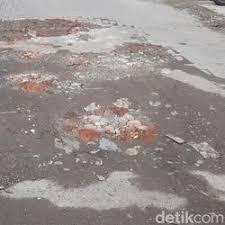Pothole: (0, 10, 220, 95), (72, 91, 191, 185)
